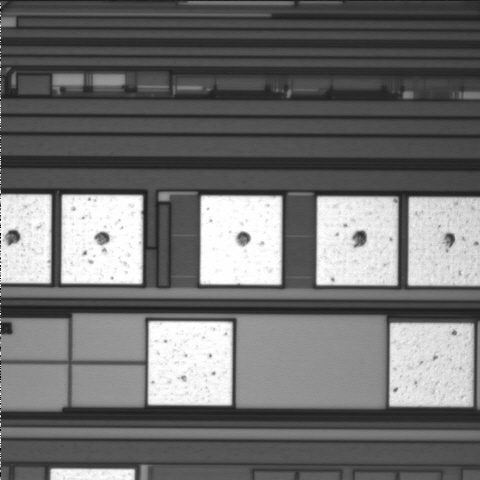pad: (61, 195, 143, 284), (200, 196, 282, 285), (316, 197, 398, 285), (148, 321, 232, 405), (389, 323, 473, 406)
